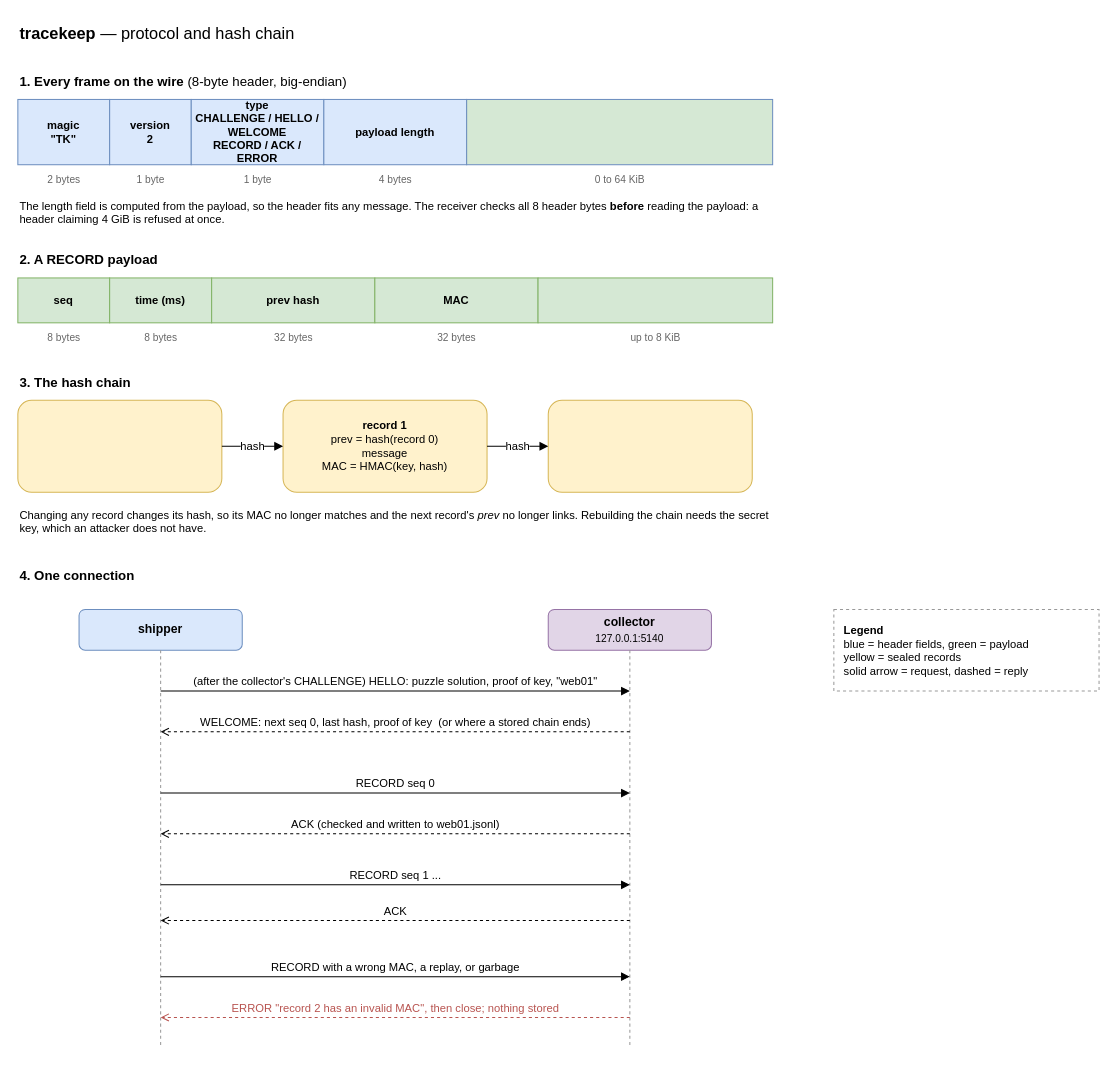
The diagram is 1117 pixels wide and 1067 high, and some of its shapes have lost their labels. The centre of each missing label's shape, as x and y in pixels:
"message (UTF-8)" goes at (655,300).
"payload" goes at (619,131).
"record 0 prev = 000...0 message MAC = HMAC(key, hash)" goes at (119,445).
"record 2 prev = hash(record 1) message MAC = HMAC(key, hash)" goes at (649,445).
